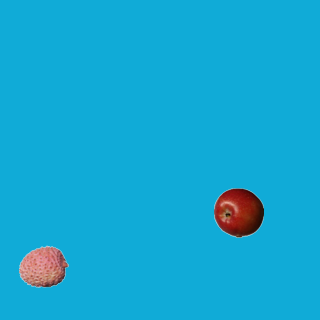Apple Braeburn: (213, 187, 263, 237)
Lychee: (18, 241, 68, 291)
